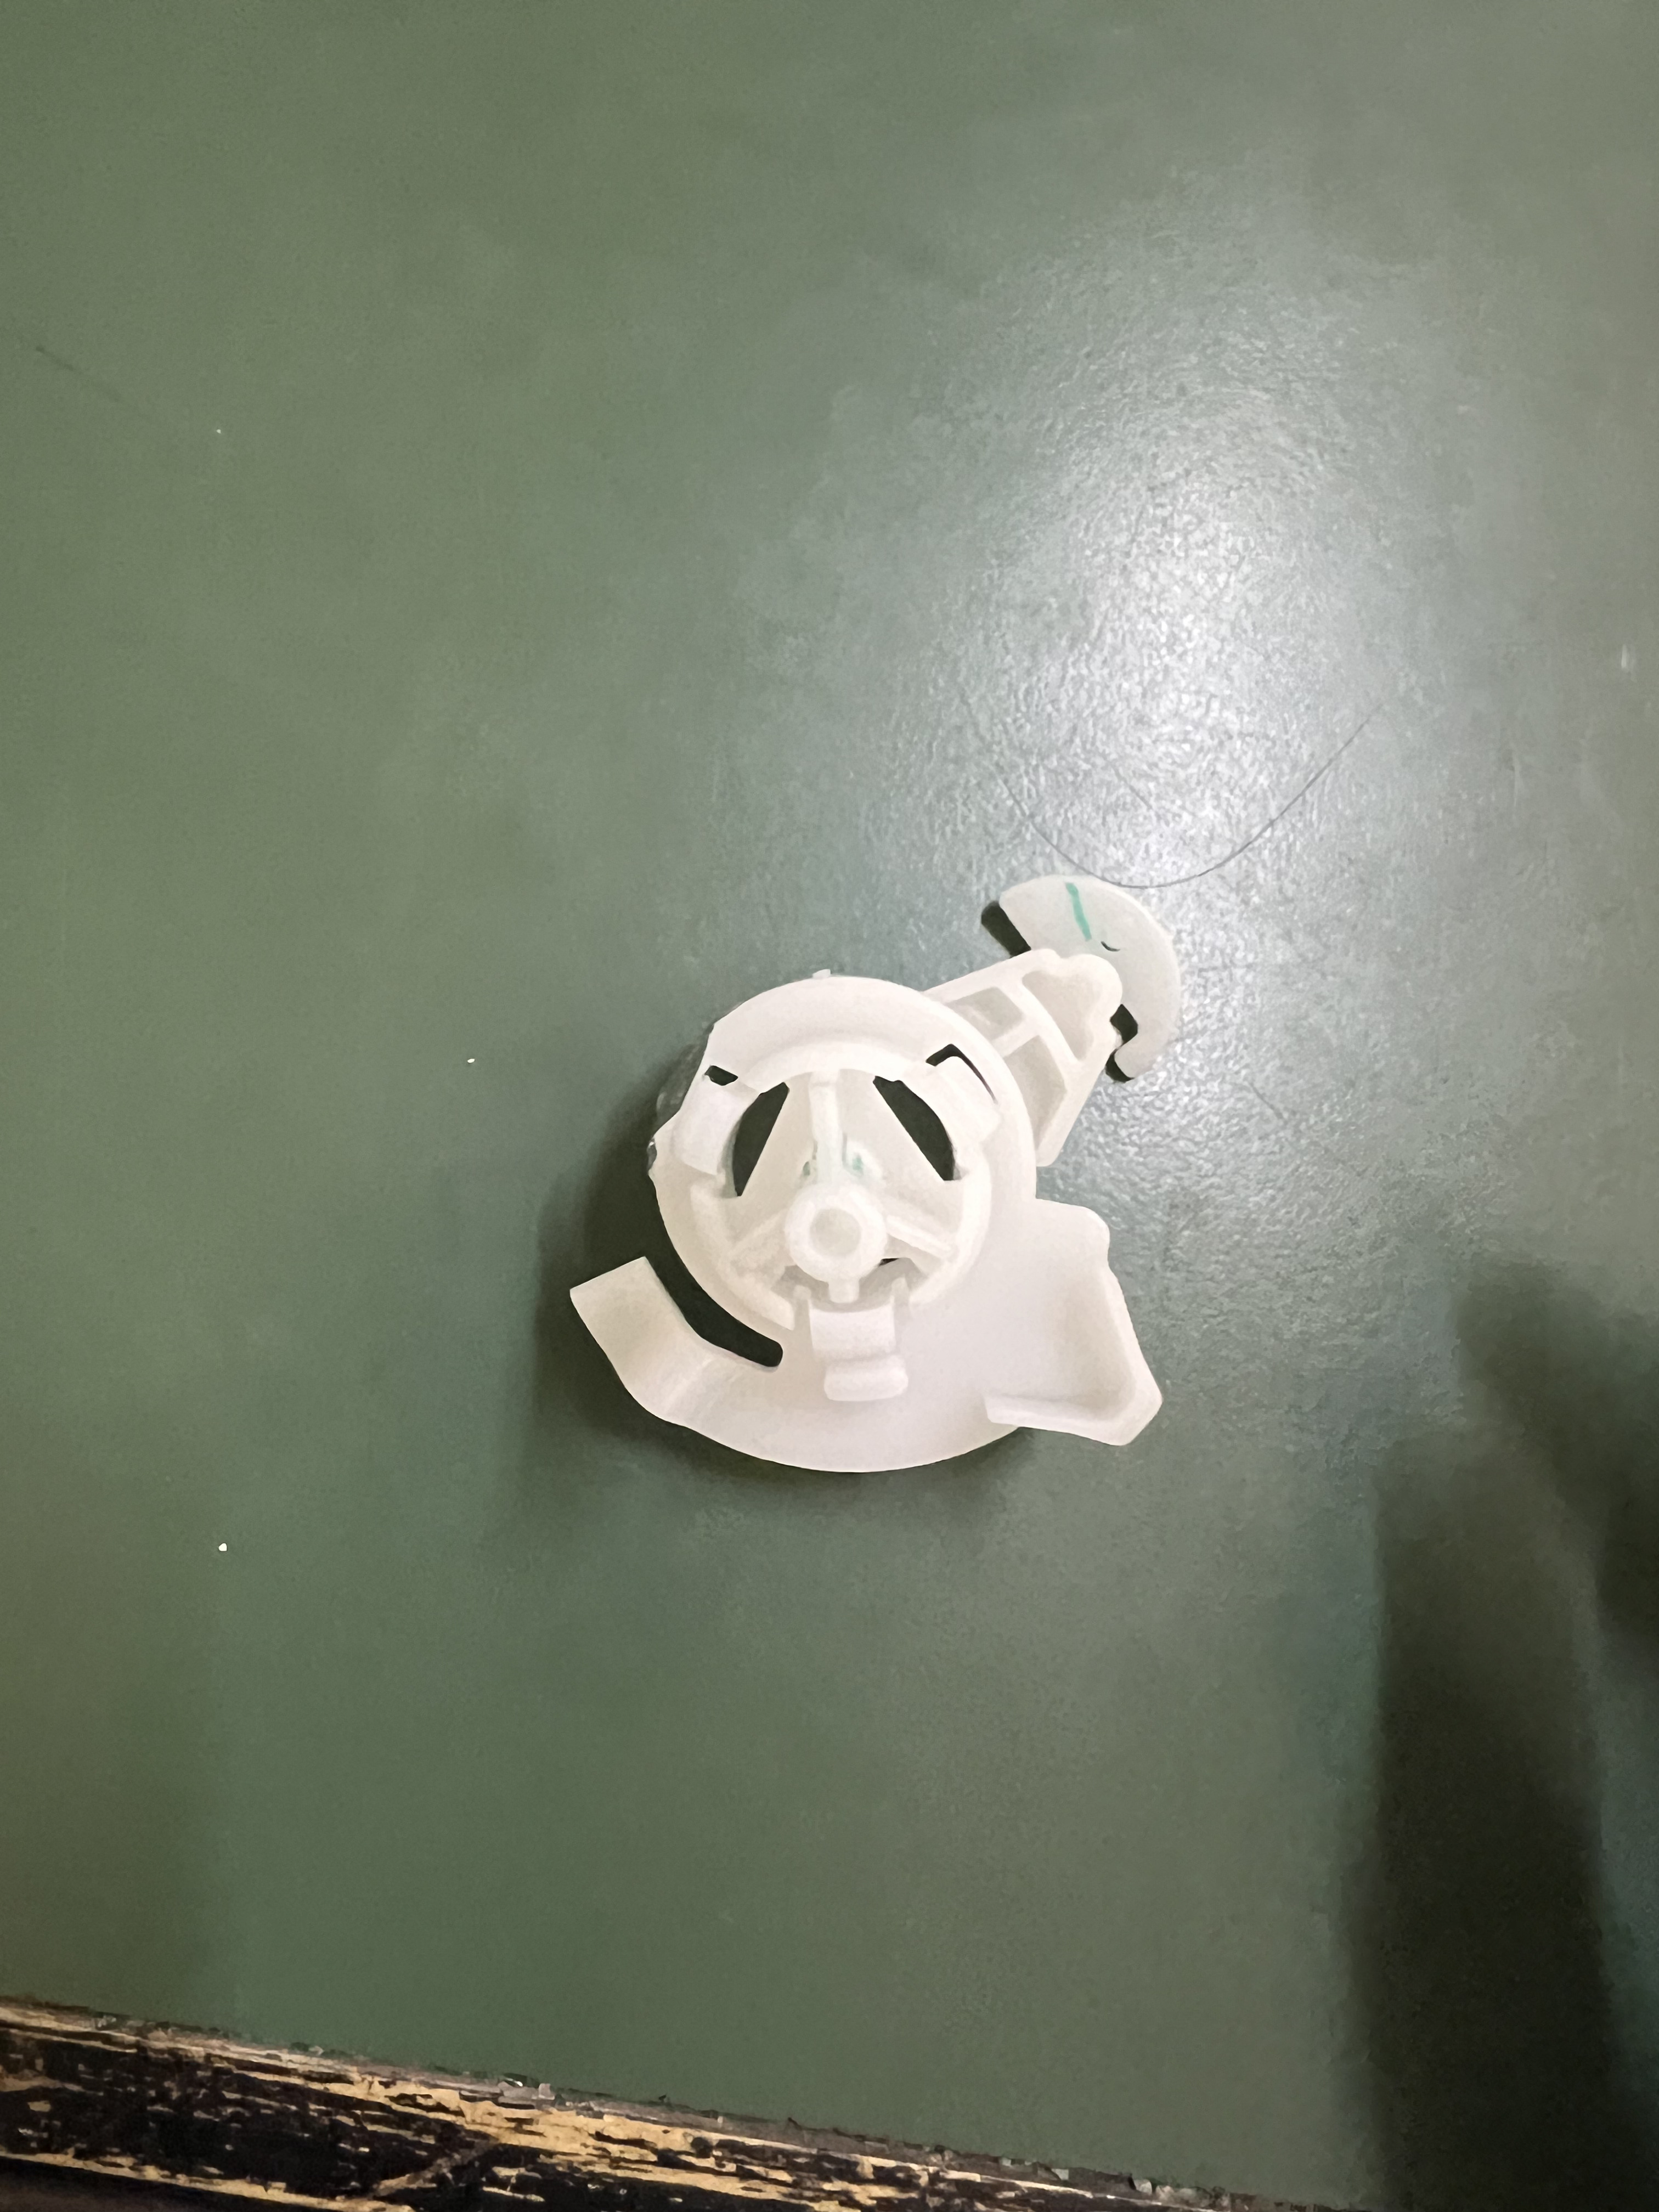drain_lever: (545, 867, 1241, 1494)
